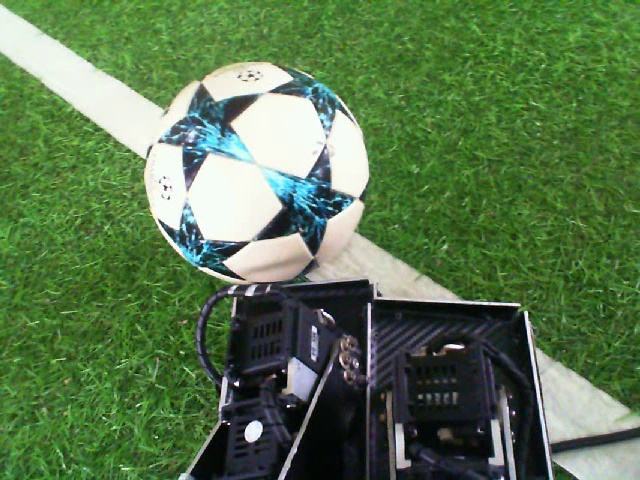ball: (142, 60, 373, 287)
